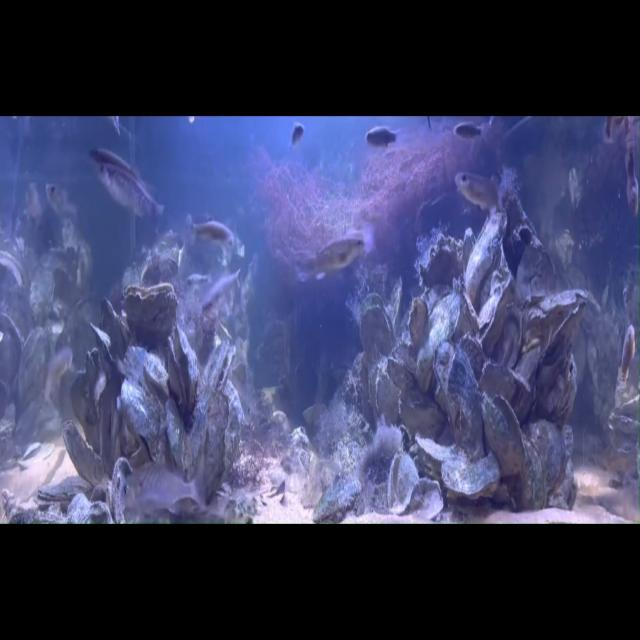Oyster- Indeterminate: (453, 205, 514, 309), (136, 352, 178, 395), (116, 342, 156, 381)
Oyster-Closed: (421, 336, 497, 465), (401, 287, 469, 393), (471, 355, 543, 420), (388, 380, 453, 450), (468, 268, 519, 356), (119, 377, 169, 464), (53, 415, 111, 490), (525, 415, 577, 495), (195, 388, 231, 501), (308, 468, 367, 536), (11, 324, 55, 412), (501, 433, 548, 513), (415, 229, 475, 288), (439, 451, 503, 503), (530, 358, 577, 425), (88, 294, 142, 352), (489, 302, 532, 370), (405, 433, 462, 484), (160, 396, 194, 475), (181, 394, 210, 481), (34, 470, 95, 509), (511, 341, 552, 386), (379, 352, 419, 395), (92, 325, 119, 387), (0, 313, 23, 384), (409, 298, 429, 349)
Oyster-Open: (514, 275, 590, 365), (480, 390, 527, 477), (123, 281, 182, 348), (190, 337, 241, 402), (165, 323, 201, 414), (382, 451, 423, 517), (357, 292, 393, 363), (130, 248, 182, 296), (0, 246, 30, 290)
